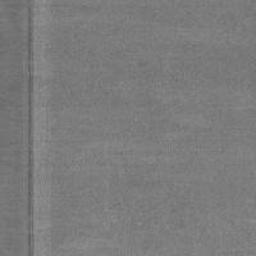Welding line: (26, 0, 36, 256)
